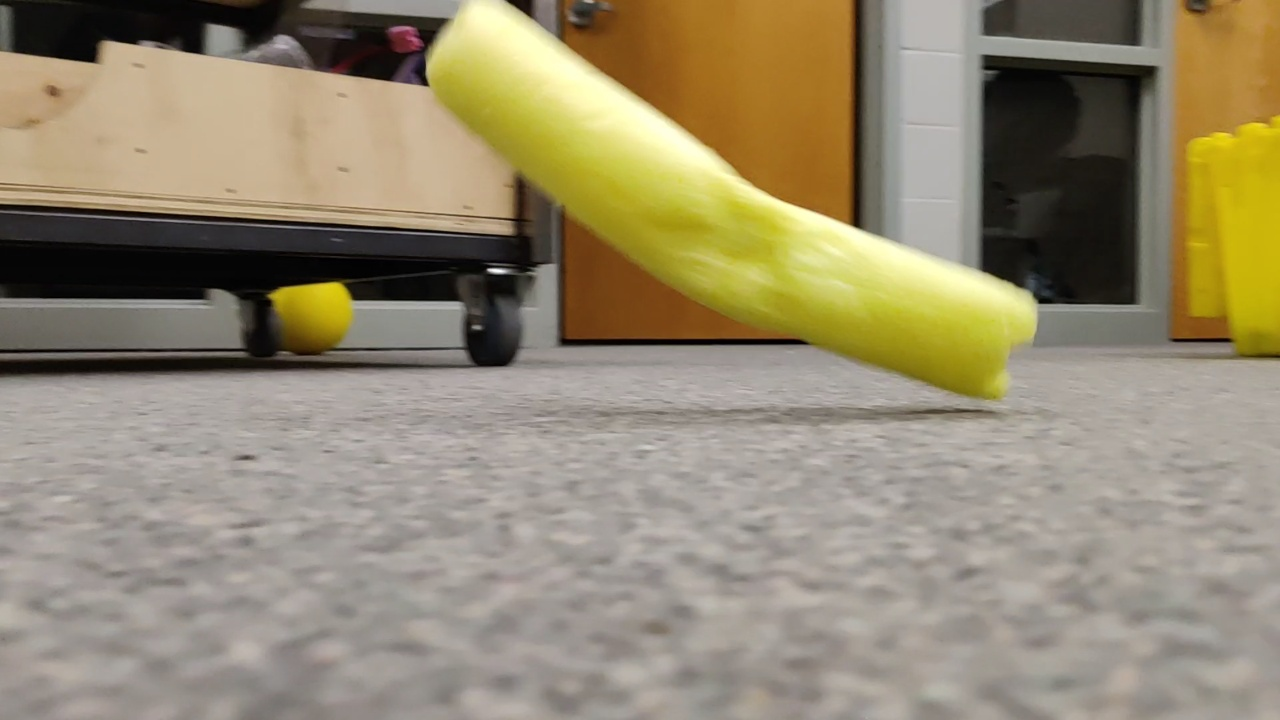Ball: (226, 276, 370, 352)
